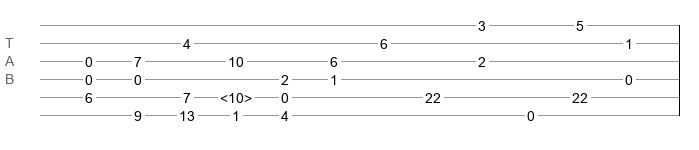0: (85, 72, 93, 82), (85, 54, 93, 64), (134, 72, 142, 82), (281, 90, 289, 100), (527, 108, 535, 118), (625, 72, 633, 82)
1: (232, 108, 240, 118), (330, 72, 338, 82), (625, 36, 633, 46)
10: (228, 54, 244, 64)
13: (179, 108, 195, 118)
2: (281, 72, 289, 82), (478, 54, 486, 64)
22: (425, 90, 441, 100), (572, 90, 588, 100)
3: (478, 18, 486, 28)
4: (183, 36, 191, 46), (281, 108, 289, 118)
5: (576, 18, 584, 28)
6: (85, 90, 93, 100), (330, 54, 338, 64), (380, 36, 388, 46)
7: (134, 54, 142, 64), (183, 90, 191, 100)
9: (134, 108, 142, 118)
harmonic: (220, 90, 252, 100)
